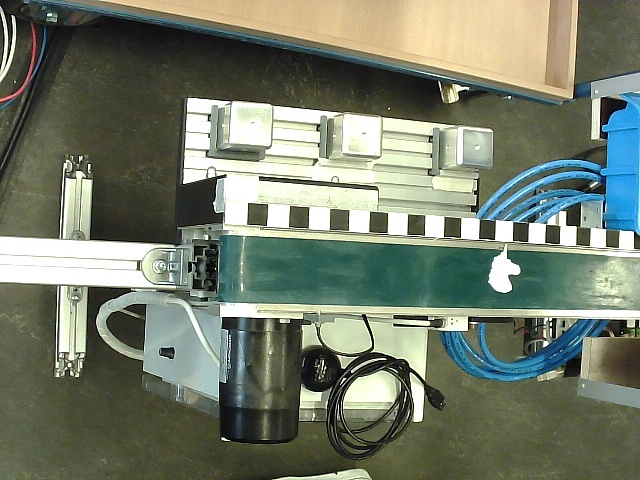unicorn: (487, 243, 521, 294)
